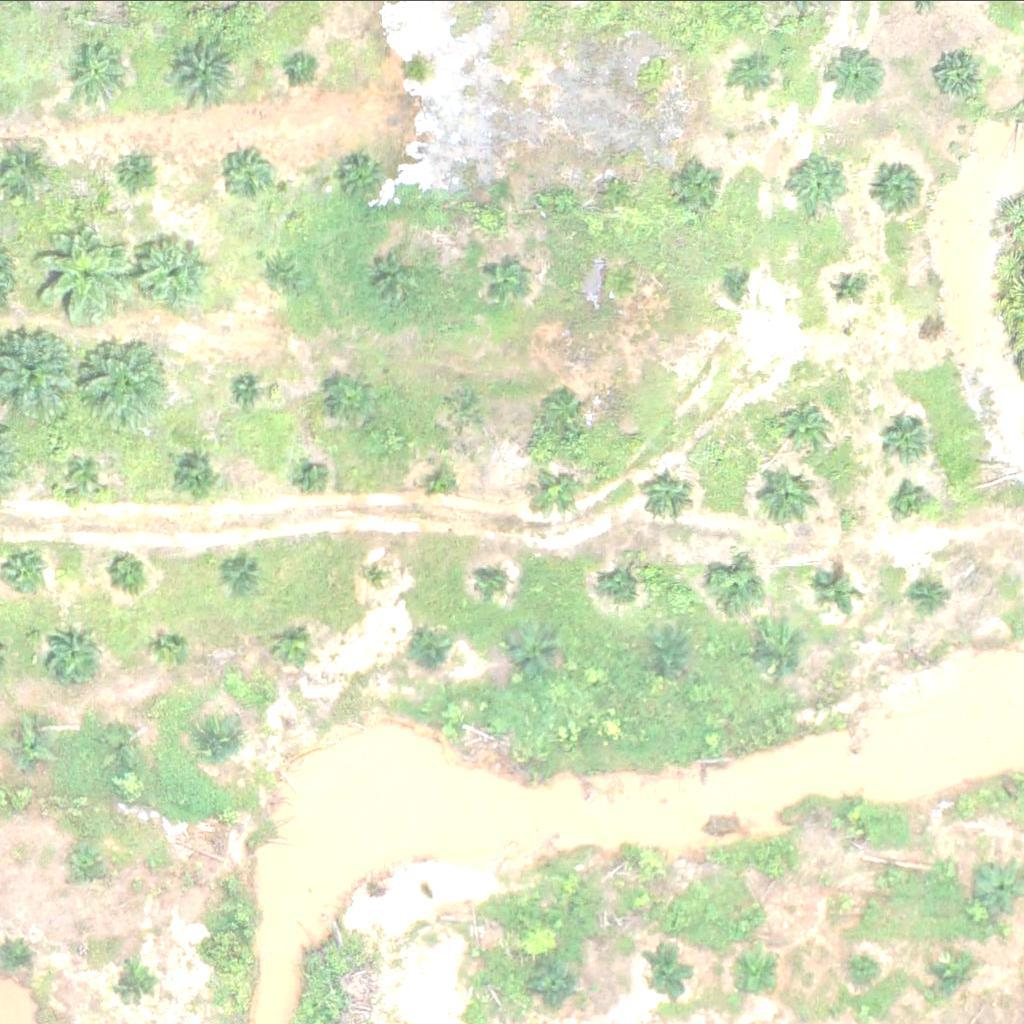Kelapa_Sawit: (29, 223, 130, 323), (130, 228, 218, 316), (79, 337, 167, 425), (166, 35, 242, 110), (774, 396, 837, 459), (68, 40, 131, 102), (870, 157, 933, 219), (788, 153, 851, 215), (45, 624, 108, 686), (756, 463, 819, 525), (539, 379, 590, 429), (832, 49, 883, 99), (933, 52, 984, 102), (669, 159, 720, 209), (927, 950, 978, 1000), (533, 466, 584, 516), (272, 620, 323, 670), (5, 717, 56, 767), (604, 558, 654, 608), (713, 560, 763, 610), (646, 471, 696, 521), (882, 411, 932, 461), (647, 946, 697, 996), (737, 948, 787, 998), (226, 151, 276, 201), (340, 148, 390, 198), (479, 251, 529, 301), (372, 251, 422, 301), (258, 244, 308, 294), (328, 371, 378, 421), (168, 452, 218, 502), (512, 624, 562, 674), (532, 955, 582, 1005), (59, 449, 109, 499), (763, 622, 813, 672), (738, 58, 776, 96), (818, 573, 856, 611), (909, 572, 947, 610), (892, 485, 930, 523), (869, 859, 907, 897), (756, 849, 794, 887), (631, 843, 669, 881), (413, 632, 451, 670), (829, 267, 867, 304), (831, 796, 869, 833), (605, 262, 642, 300), (450, 388, 487, 426), (157, 629, 194, 667), (651, 633, 689, 670), (120, 964, 158, 1001), (103, 722, 140, 760), (105, 550, 143, 587), (599, 170, 637, 207), (850, 950, 887, 987), (229, 554, 266, 591), (201, 722, 238, 759), (71, 845, 108, 882), (289, 56, 315, 81), (726, 273, 751, 298), (299, 465, 324, 490), (429, 472, 454, 497), (368, 560, 393, 585), (480, 566, 505, 591), (125, 155, 150, 180), (516, 57, 541, 82), (235, 378, 260, 402)
